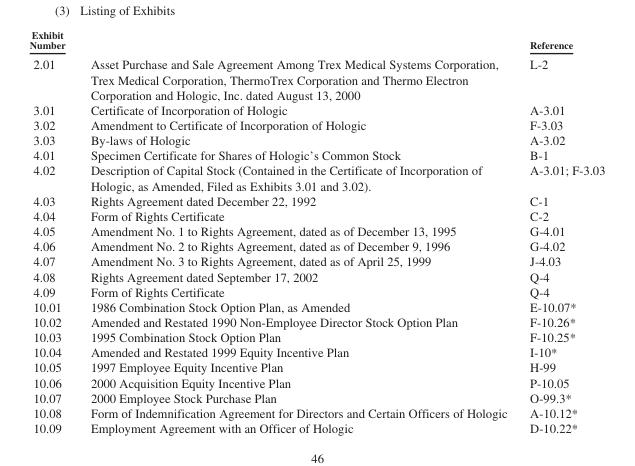table: (28, 28, 604, 434)
table column: (77, 28, 517, 434), (517, 28, 604, 434), (28, 28, 77, 434)
table column header: (28, 28, 604, 101)
table row: (28, 28, 604, 101), (28, 162, 604, 192), (28, 101, 604, 117), (28, 192, 604, 208), (28, 298, 604, 314), (28, 389, 604, 405), (28, 117, 604, 132), (28, 132, 604, 147), (28, 147, 604, 162), (28, 208, 604, 223), (28, 223, 604, 238), (28, 238, 604, 253), (28, 253, 604, 268), (28, 268, 604, 283), (28, 283, 604, 298), (28, 314, 604, 329), (28, 329, 604, 344), (28, 344, 604, 359), (28, 359, 604, 374), (28, 374, 604, 389), (28, 405, 604, 420), (28, 420, 604, 434)
